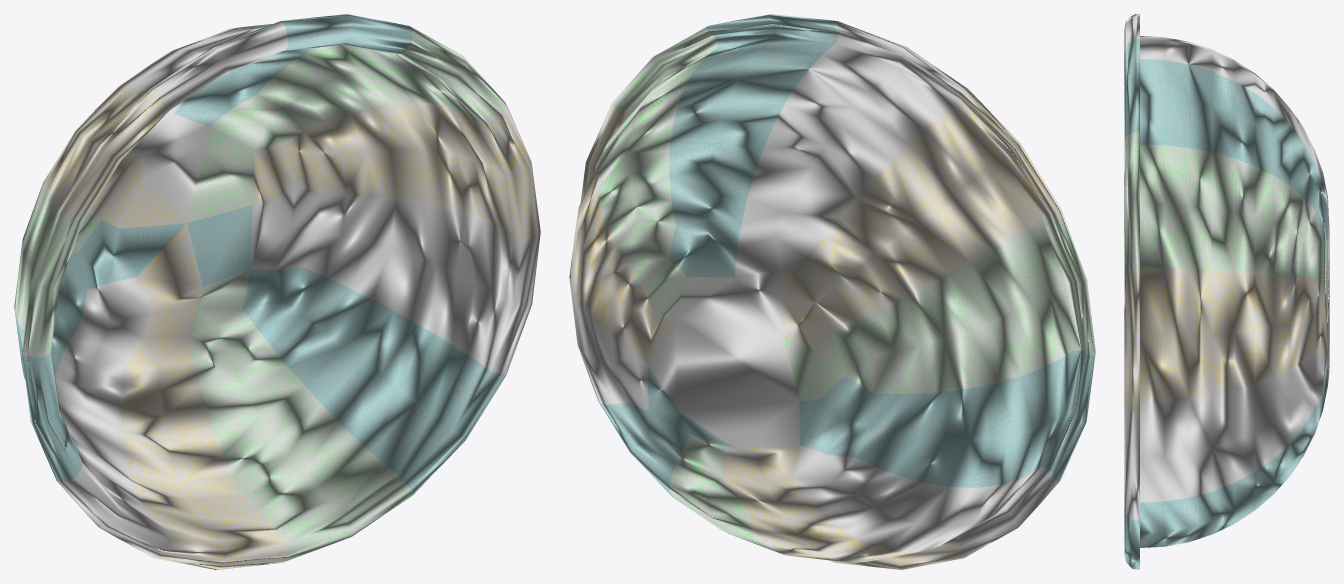
The model's file is model_align.obj.
3 renders of one model, left to right at view 1: azimuth 30°, elevation 25°; view 2: azimuth 150°, elevation 25°; view 3: azimuth 270°, elevation 25°, orthographic. The views are drawn at different scales.
Size of the model in its own units: 0.1681 by 0.1681 by 0.0617.
